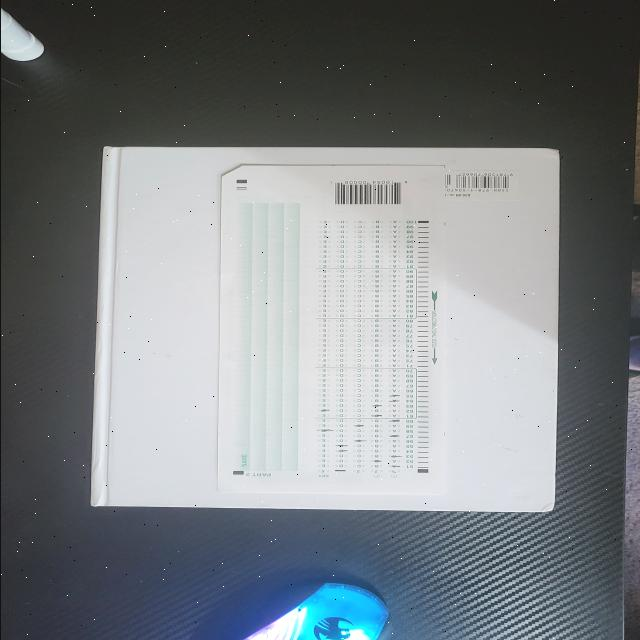scantron_back: (216, 164, 444, 495)
